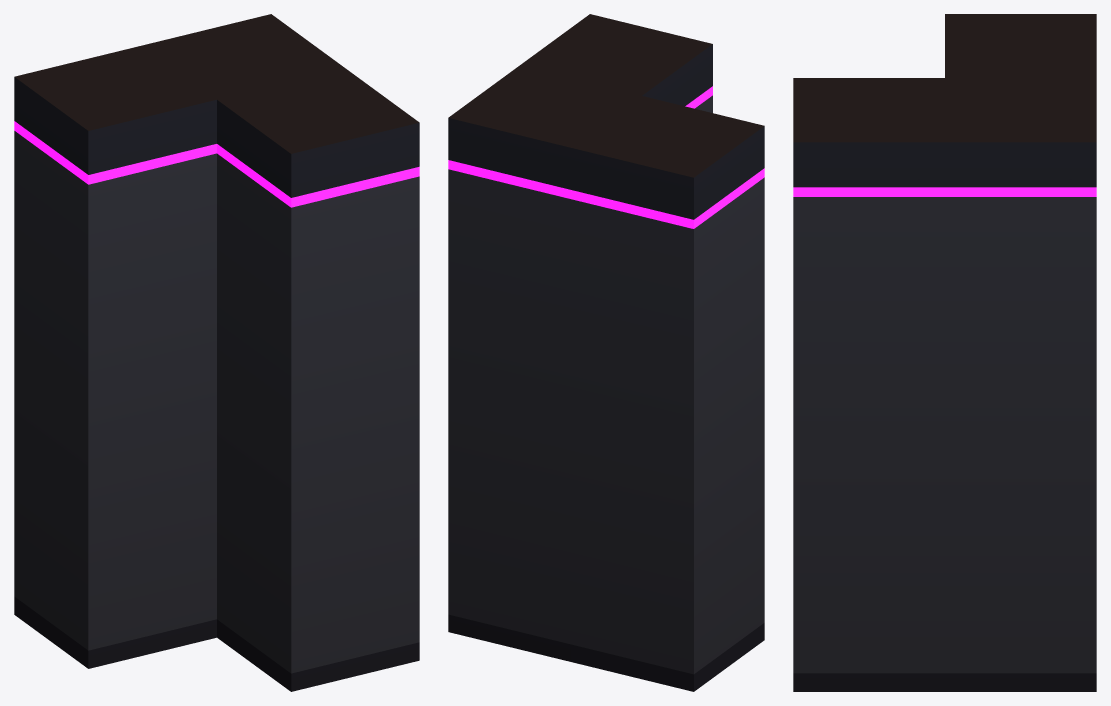
Rendered from WallCorner32.fbx.
3 views of the same model, side by side, from view 1: azimuth 30°, elevation 25°; view 2: azimuth 150°, elevation 25°; view 3: azimuth 270°, elevation 25° (orthographic). The views are drawn at different scales.
Parts seen in each view (by area): view 1: WallCorner32; view 2: WallCorner32; view 3: WallCorner32.
Part boxes in pixels (x1,y1,x2,y2): WallCorner32: (14, 14, 419, 691); WallCorner32: (448, 14, 764, 691); WallCorner32: (793, 14, 1096, 691).
Bounding box in the file's own units: 200 × 400 × 200.
